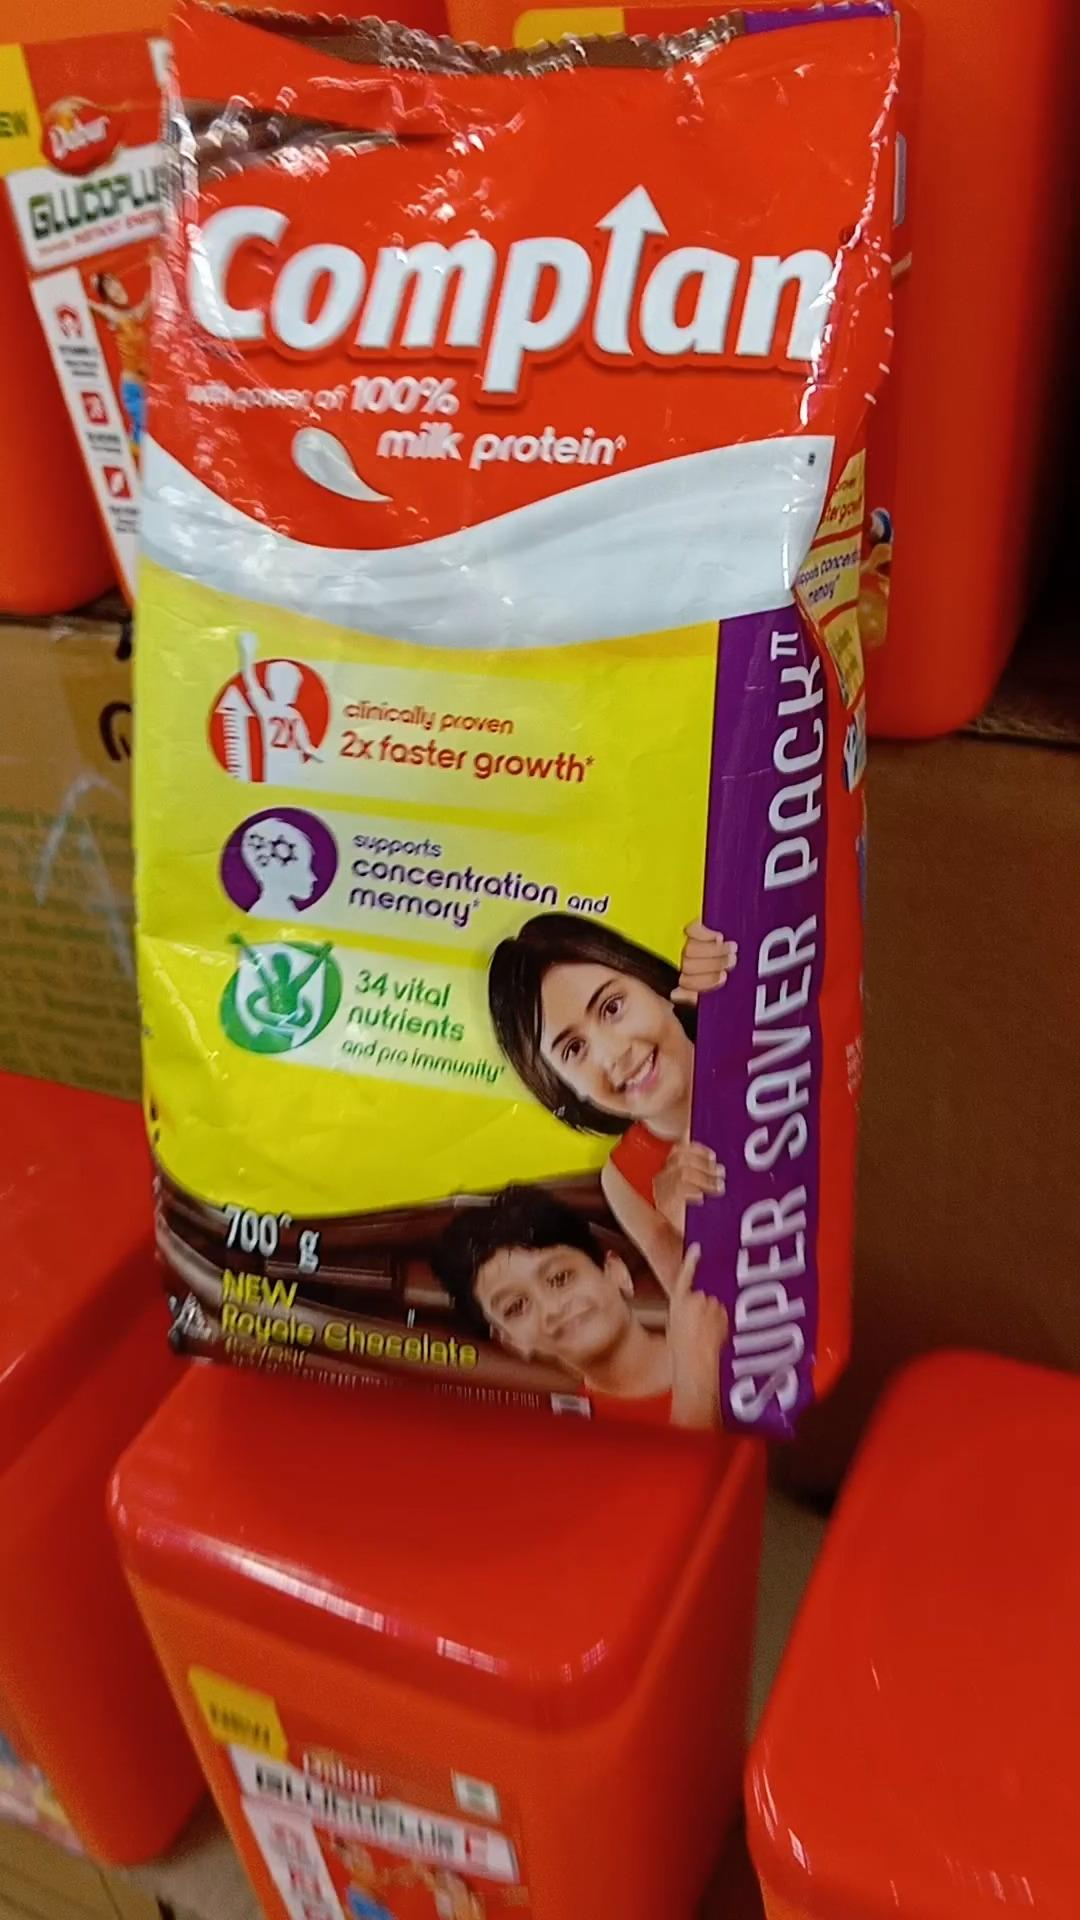COMPLAN_RC_POUCH_700_GMS_12: (136, 25, 843, 1425)
